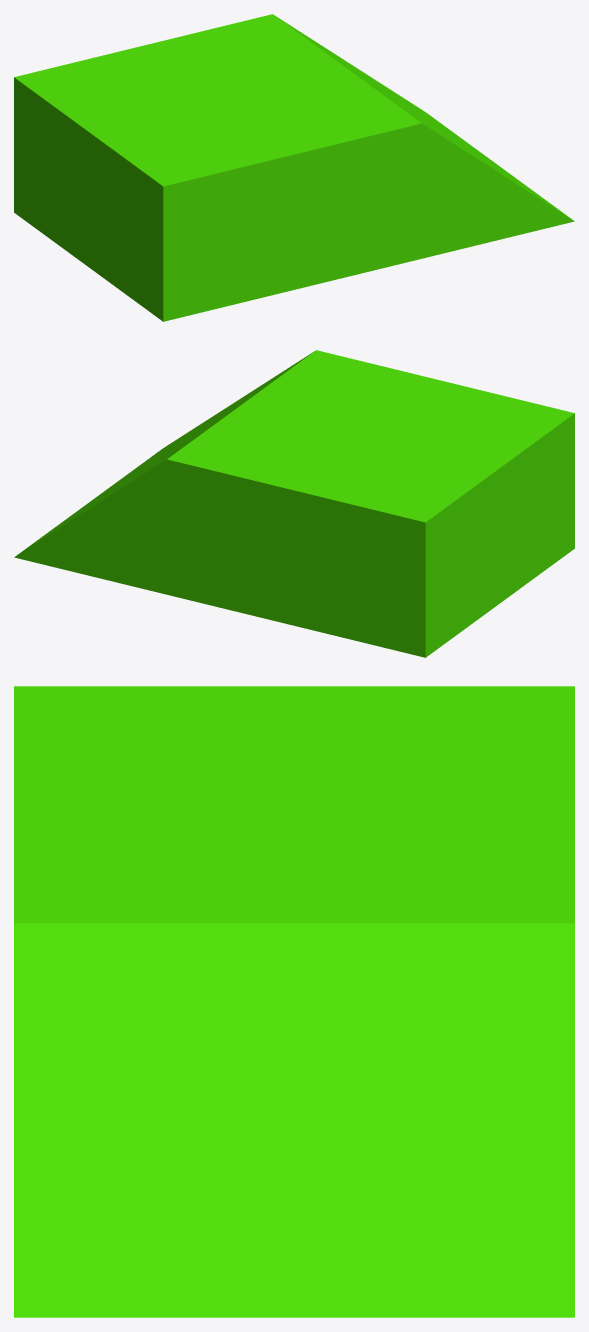
The model's file is Playergym60.fbx.
The picture shows the model from 3 angles, top to bottom: view 1: azimuth 30°, elevation 25°; view 2: azimuth 150°, elevation 25°; view 3: azimuth 270°, elevation 25°; orthographic projection. The views are drawn at different scales.
Parts seen in each view (by area): view 1: SM_PLayerGym.004; view 2: SM_PLayerGym.004; view 3: SM_PLayerGym.004.
Boxes of the visible parts, left/top/right/bottom form: SM_PLayerGym.004: left=14, top=14, right=574, bottom=321; SM_PLayerGym.004: left=14, top=350, right=574, bottom=657; SM_PLayerGym.004: left=14, top=686, right=574, bottom=1317.
Size of the model in its own units: 318 by 100 by 200.
